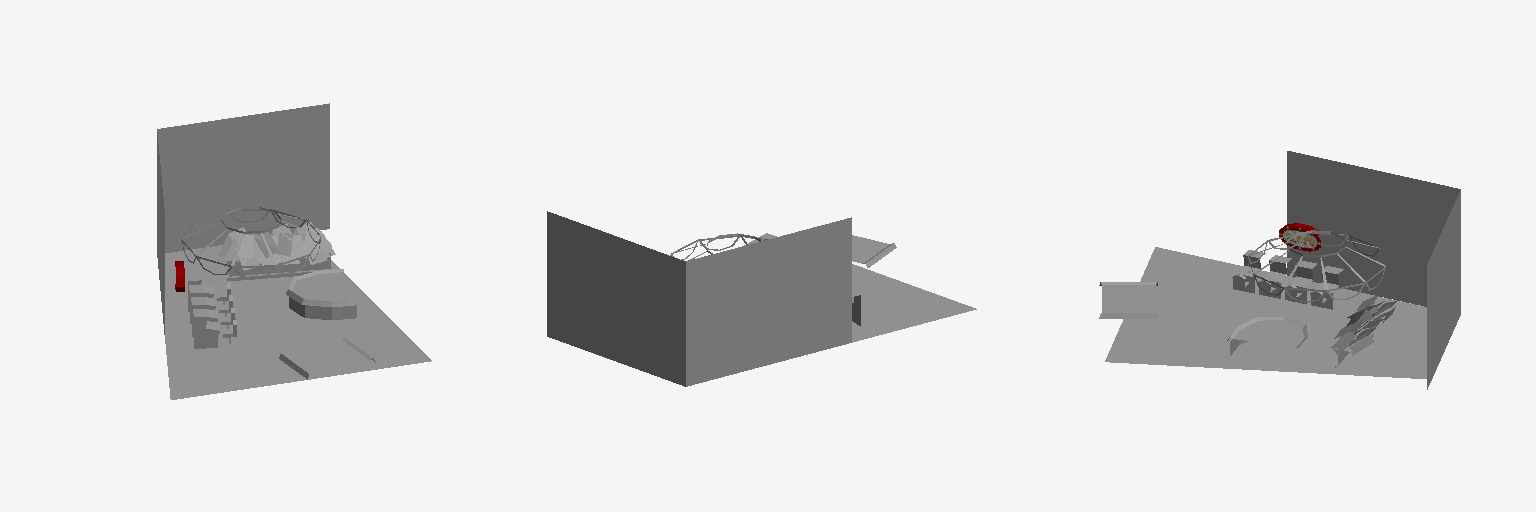
3 views of the same model, side by side, from view 1: azimuth 30°, elevation 25°; view 2: azimuth 150°, elevation 25°; view 3: azimuth 270°, elevation 25° (orthographic).
Visible parts, largest first — view 1: Casino; view 2: Casino; view 3: Casino.
Boxes of the visible parts, box(x1,y1,x2,y2) form: Casino: box(157, 103, 431, 399); Casino: box(547, 211, 976, 386); Casino: box(1099, 151, 1460, 389).
Size of the model in its own units: 111 by 44.92 by 117.
10 materials, 1 textured.